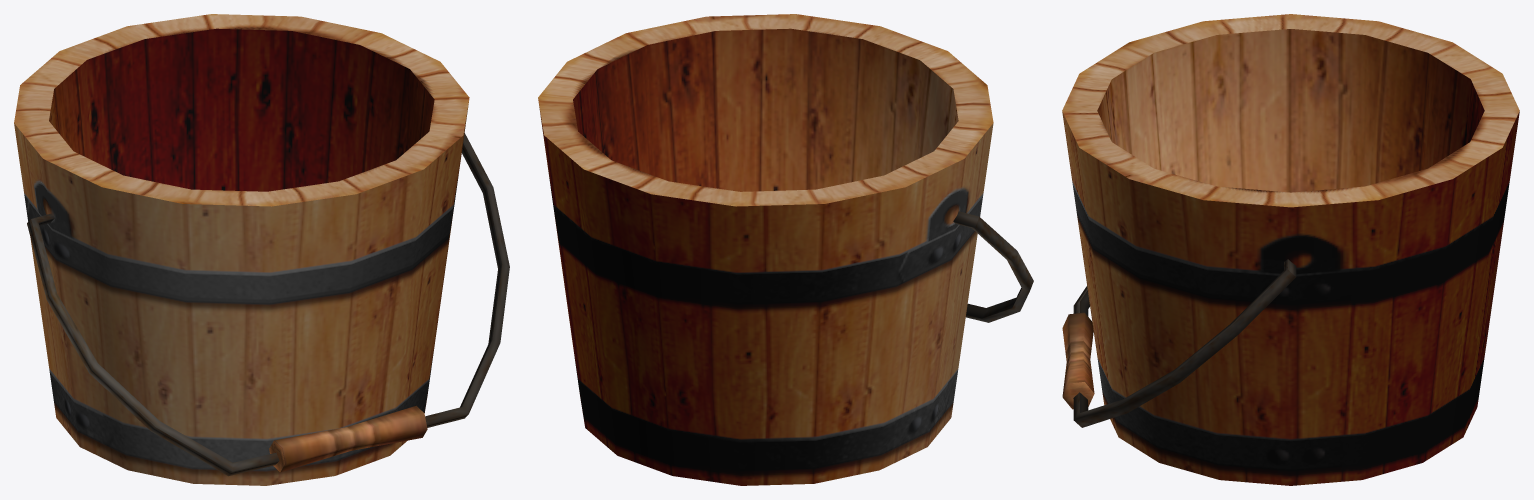
File: pail.fbx
The picture shows the model from 3 angles, left to right: view 1: azimuth 30°, elevation 25°; view 2: azimuth 150°, elevation 25°; view 3: azimuth 270°, elevation 25°; orthographic projection.
Visible parts, largest first — view 1: pail; view 2: pail; view 3: pail.
Boxes of the visible parts, x1,y1,x2,y2 form: pail: (14, 14, 509, 485); pail: (538, 14, 1033, 485); pail: (1062, 14, 1519, 485).
Size of the model in its own units: 45.38 by 29.14 by 40.76.
